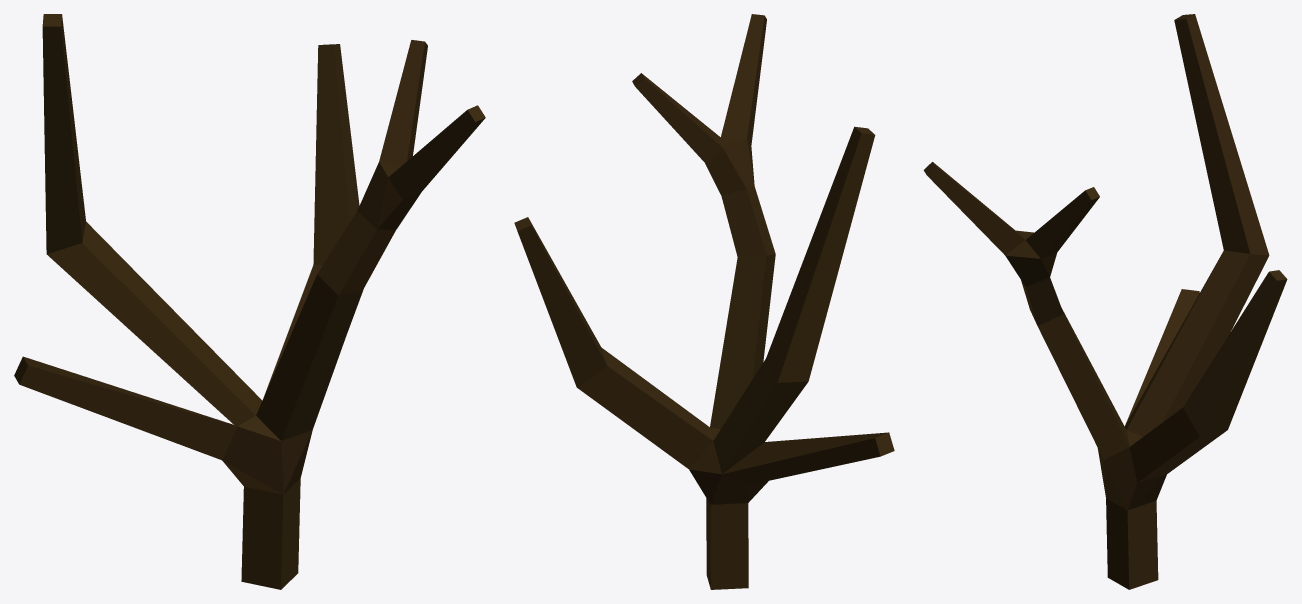
File: DeadBush(3).fbx
3 renders of one model, left to right at view 1: azimuth 30°, elevation 25°; view 2: azimuth 150°, elevation 25°; view 3: azimuth 270°, elevation 25°, orthographic. The views are drawn at different scales.
Visible parts, largest first — view 1: DeadBush(3); view 2: DeadBush(3); view 3: DeadBush(3).
Part boxes in pixels (x1,y1,x2,y2): DeadBush(3): (14, 14, 485, 589); DeadBush(3): (514, 14, 894, 589); DeadBush(3): (923, 14, 1287, 589).
Bounding box in the file's own units: 0.9551 × 1.41 × 0.9554.
